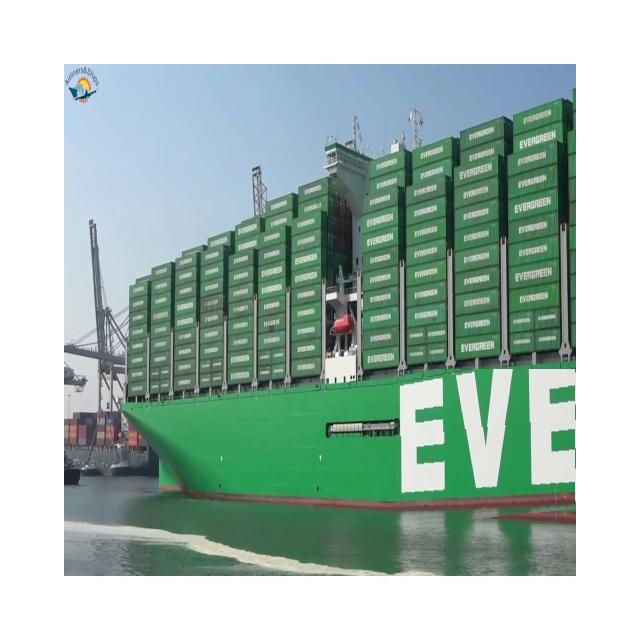OCR: (390, 369, 576, 528)
